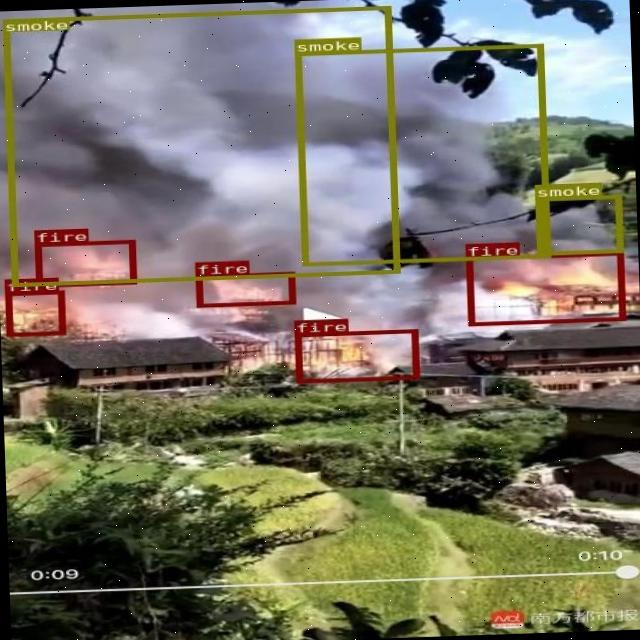fire: (464, 250, 624, 324), (293, 328, 417, 382), (34, 240, 136, 286), (194, 272, 294, 307), (4, 289, 64, 336)
smoke: (2, 5, 400, 286), (294, 42, 549, 266), (534, 193, 622, 254)
